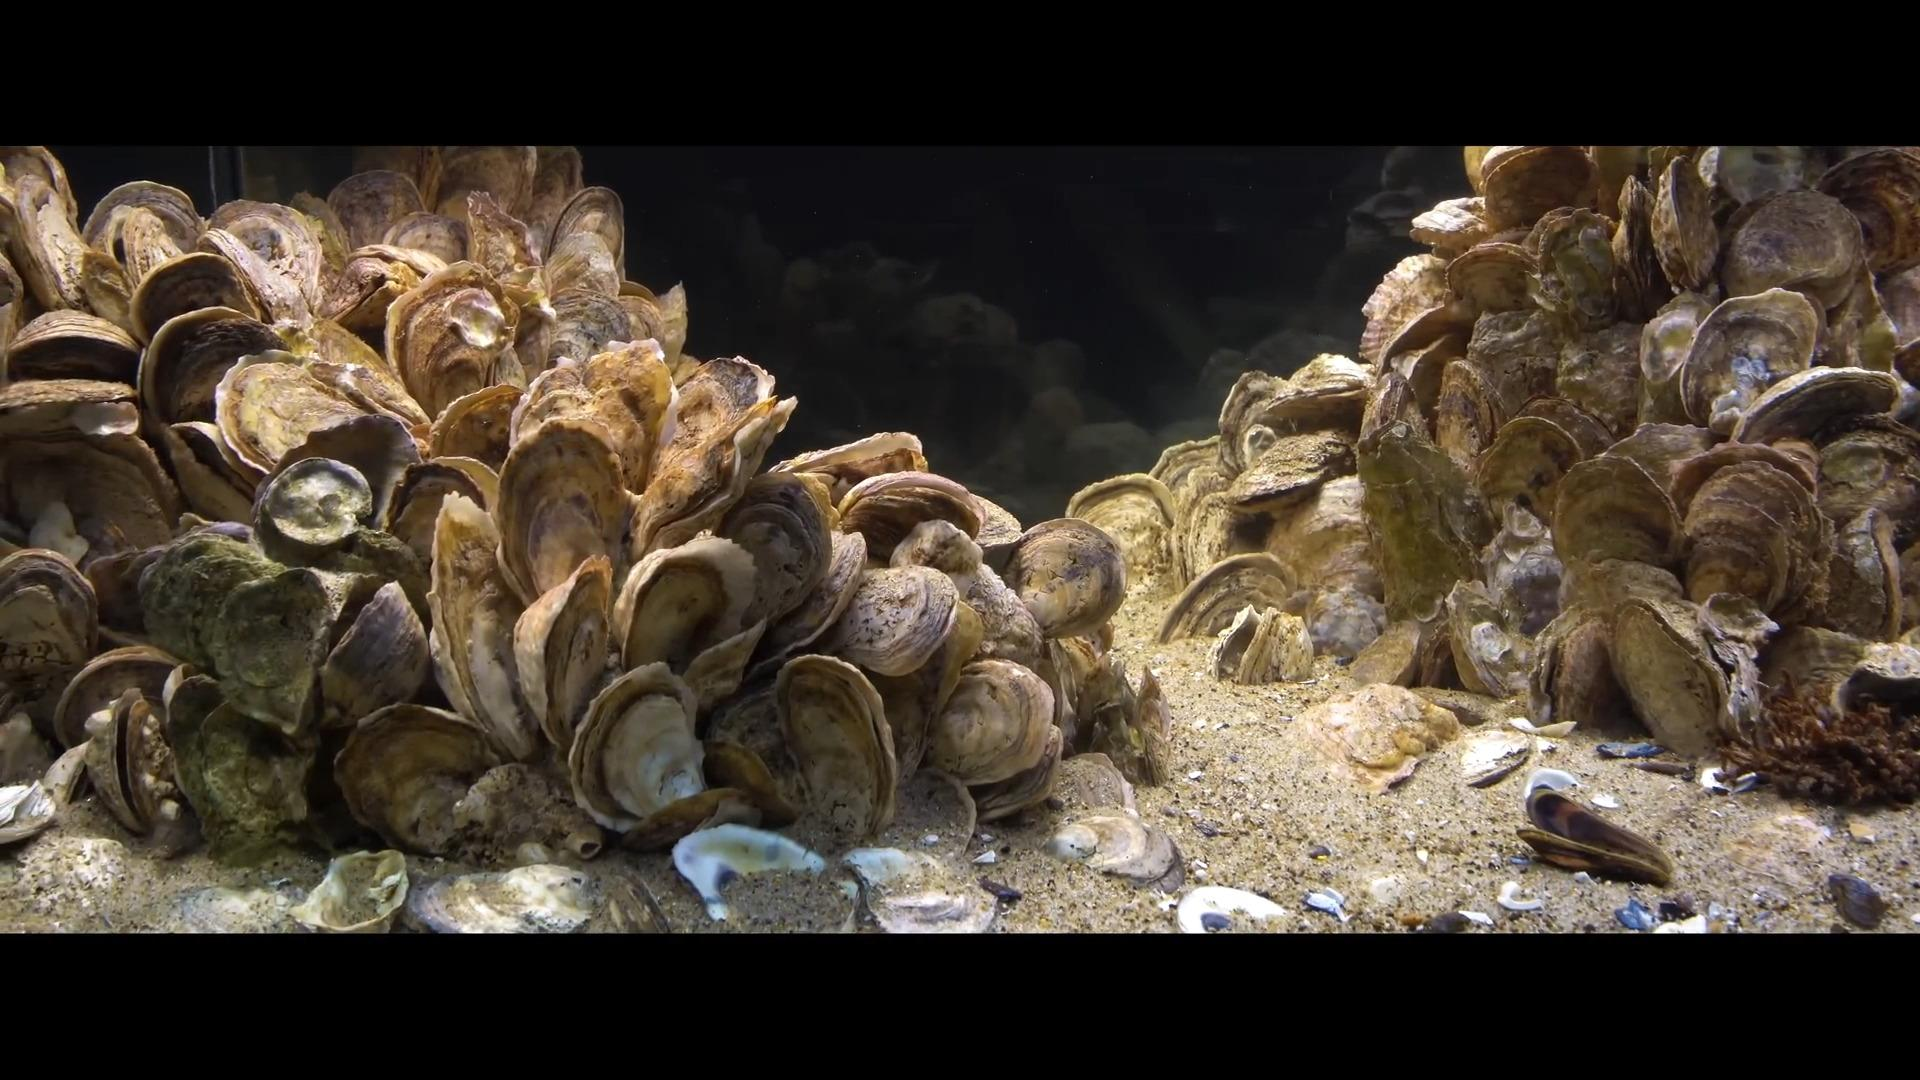Oyster: (626, 351, 786, 562), (3, 405, 182, 579), (165, 676, 319, 866), (425, 495, 533, 761), (493, 407, 630, 612), (331, 700, 498, 860), (380, 260, 529, 426), (770, 653, 898, 845), (1673, 455, 1820, 621), (568, 663, 705, 832), (1607, 592, 1743, 761), (608, 533, 752, 688), (210, 564, 338, 737), (510, 549, 616, 757), (705, 477, 829, 650), (1675, 287, 1818, 435), (265, 406, 421, 527), (1713, 186, 1863, 310), (1548, 451, 1685, 583), (138, 306, 289, 425), (318, 579, 434, 729), (567, 335, 678, 488), (202, 199, 334, 323), (928, 655, 1051, 789), (3, 162, 103, 322), (829, 468, 986, 568), (129, 249, 269, 361), (1005, 514, 1129, 640), (820, 566, 960, 674), (53, 646, 186, 758), (1472, 413, 1590, 537), (410, 862, 609, 936), (1735, 363, 1904, 448), (0, 547, 99, 691), (84, 692, 179, 841), (1815, 146, 1920, 272), (1456, 309, 1567, 426), (1692, 592, 1779, 741), (1815, 423, 1920, 542), (773, 429, 930, 508), (384, 456, 491, 572), (334, 240, 454, 340), (1822, 500, 1911, 636), (1163, 551, 1292, 644), (1532, 203, 1626, 330), (82, 179, 203, 276), (1358, 252, 1455, 371), (4, 307, 145, 388), (1229, 429, 1358, 514), (702, 684, 796, 796), (616, 785, 767, 855), (1476, 145, 1598, 231), (290, 849, 414, 934), (1635, 294, 1712, 427), (1650, 150, 1720, 293), (1609, 166, 1675, 316), (952, 559, 1044, 666), (427, 145, 535, 236), (1548, 615, 1630, 735), (531, 287, 640, 377), (968, 720, 1063, 822), (1594, 421, 1717, 496), (0, 376, 148, 438), (1444, 582, 1522, 699), (324, 166, 423, 256), (82, 545, 174, 638), (542, 183, 628, 284), (1249, 369, 1371, 439), (463, 186, 542, 293), (1443, 235, 1540, 318), (1216, 367, 1290, 460), (1432, 363, 1495, 471), (1344, 618, 1425, 691), (1404, 195, 1495, 258), (1031, 629, 1088, 731), (1362, 365, 1428, 451), (1052, 749, 1134, 818), (381, 210, 472, 269), (0, 777, 61, 849)
